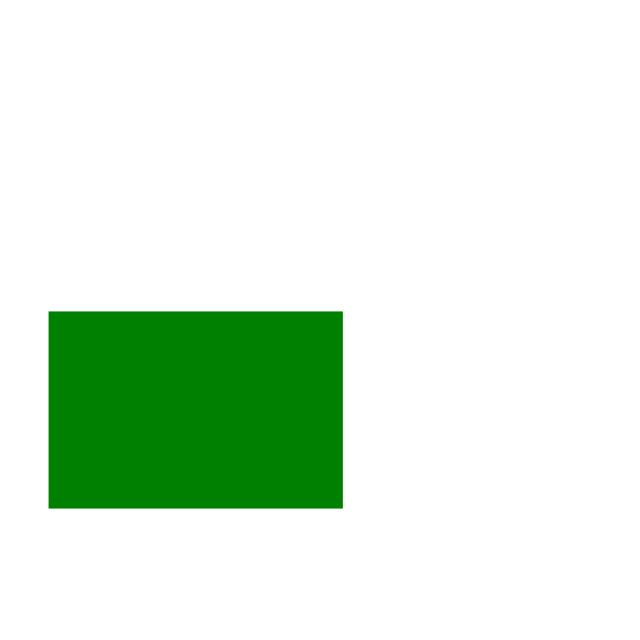Rectangle: (33, 280, 383, 549)
